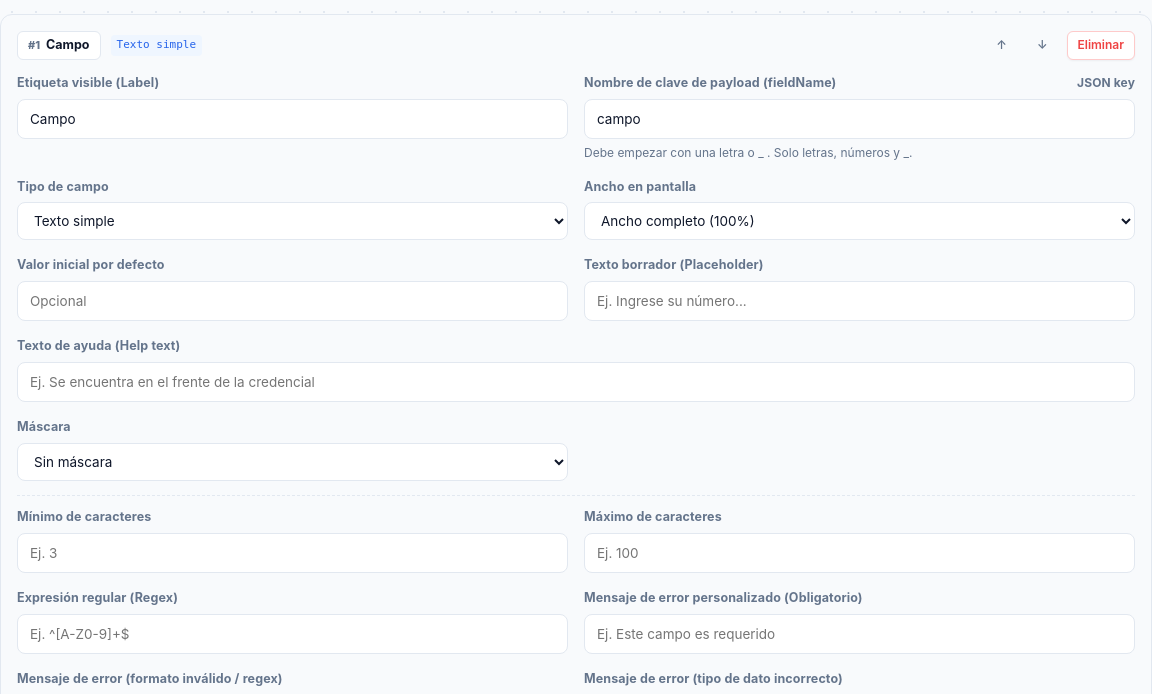
Test: FieldEditor — qué definición produce › escribir una regex inválida muestra el error sin esperar al guardado
Click the field with placeholder "Ej. ^[A-Z0-9]+$". click: (292, 634)
box: [17,614,568,654]
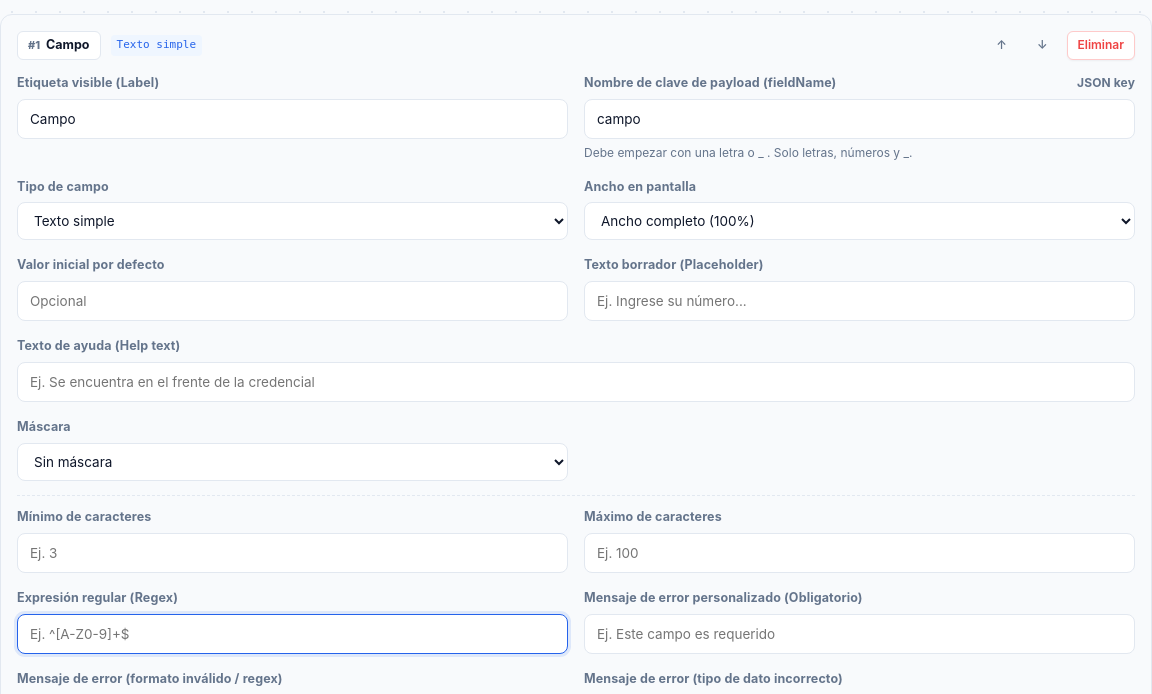
Type keys "([a-z"
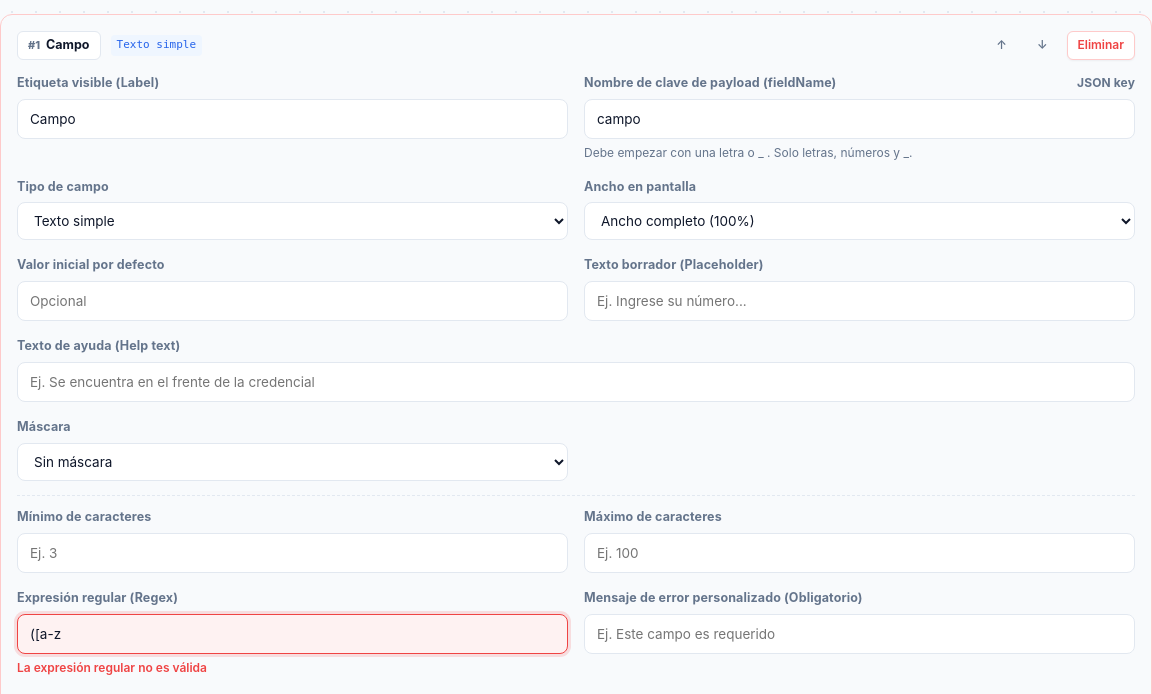
Now the text "La expresión regular no es válida" is shown, box [17,660,207,675]
